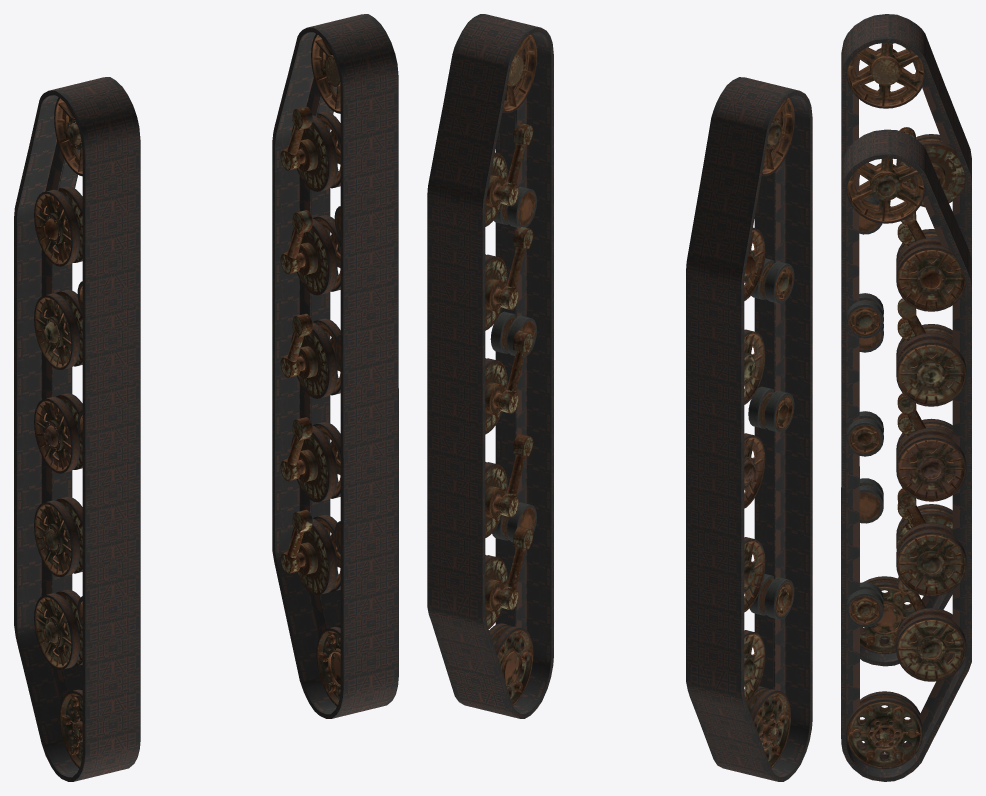
The model's file is Chassis_01.glb.
The picture shows the model from 3 angles, left to right: view 1: azimuth 30°, elevation 25°; view 2: azimuth 150°, elevation 25°; view 3: azimuth 270°, elevation 25°; orthographic projection. The views are drawn at different scales.
Visible parts, largest first — view 1: set_0_group_0, set_1_group_0, set_3_group_0, set_2_group_0; view 2: set_0_group_0, set_1_group_0, set_3_group_0, set_2_group_0; view 3: set_3_group_0, set_1_group_0, set_2_group_0, set_0_group_0.
Boxes of the visible parts, x1,y1,x2,y2 form: set_0_group_0: [14, 77, 140, 781]; set_1_group_0: [272, 14, 398, 718]; set_3_group_0: [280, 34, 340, 706]; set_2_group_0: [34, 97, 82, 768]; set_0_group_0: [686, 77, 812, 781]; set_1_group_0: [427, 14, 553, 718]; set_3_group_0: [485, 34, 537, 705]; set_2_group_0: [744, 97, 794, 768]; set_3_group_0: [846, 158, 966, 769]; set_1_group_0: [841, 129, 971, 781]; set_2_group_0: [846, 42, 966, 654]; set_0_group_0: [841, 14, 971, 666].
Size of the model in its own units: 2.83 by 5.9 by 1.11.
Materials: 4 (4 with a texture image).
